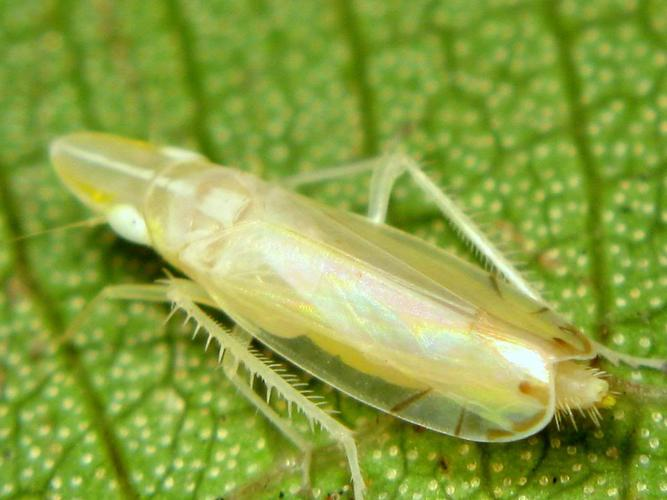Cicadellidae: (49, 128, 619, 442)
